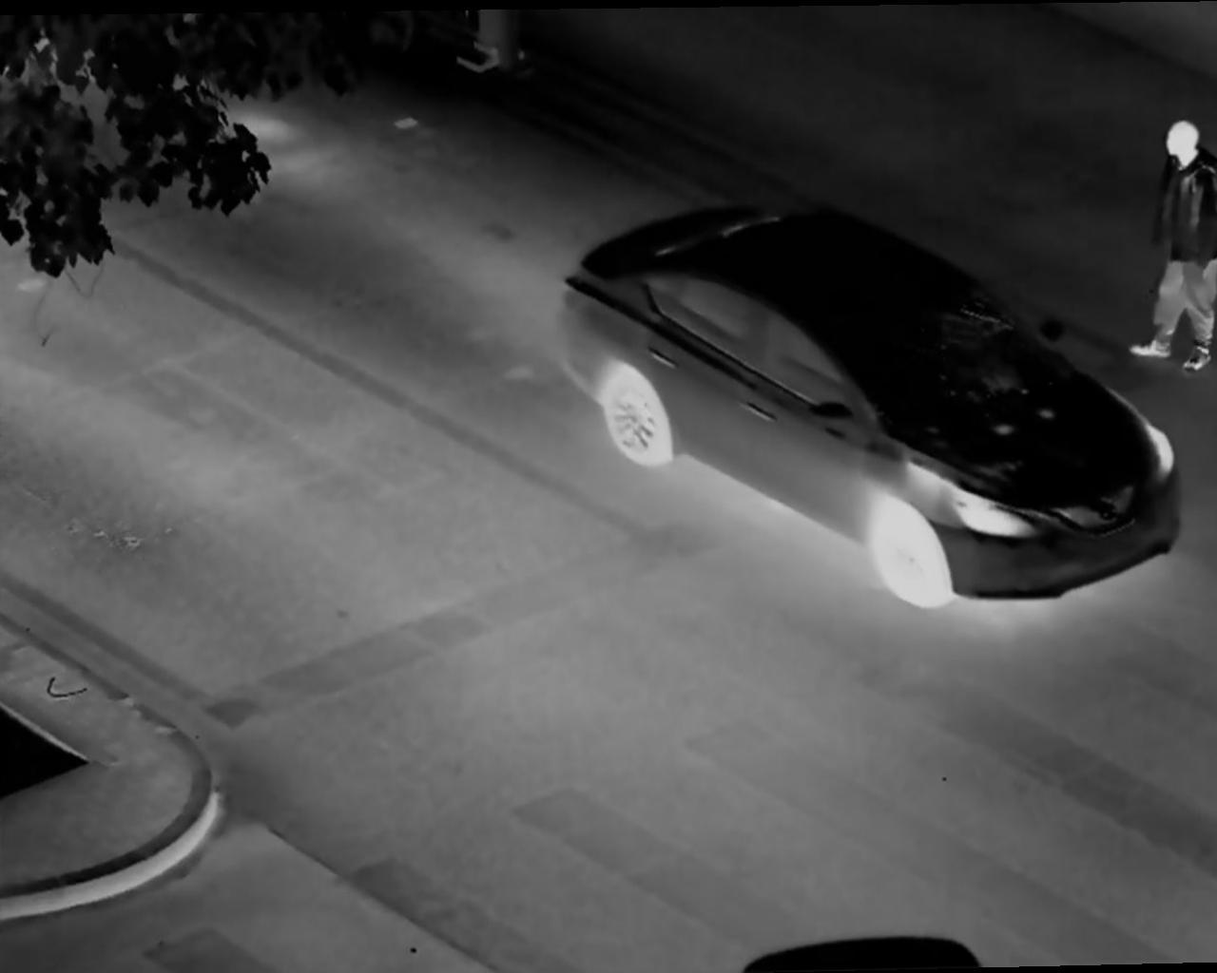person: (1140, 108, 1217, 379)
